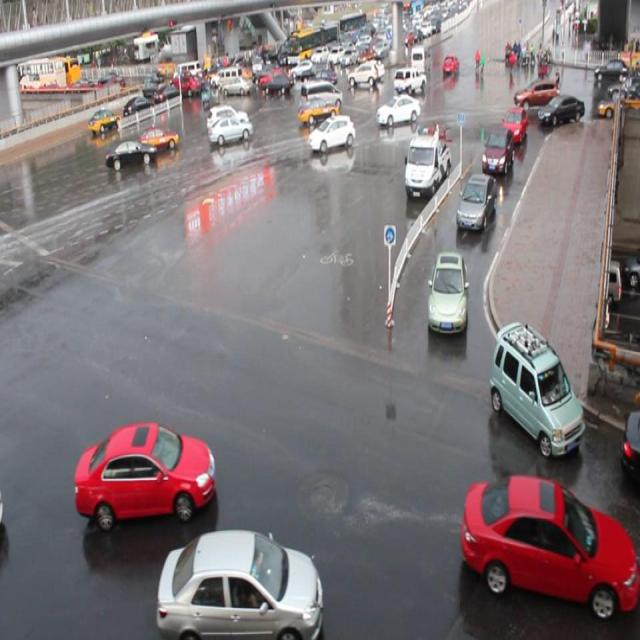bus: (402, 133, 450, 199)
car: (460, 474, 640, 615), (155, 525, 323, 640), (74, 419, 217, 529), (488, 320, 584, 456), (426, 251, 468, 336), (454, 172, 497, 231), (480, 124, 514, 176), (308, 114, 354, 152), (538, 91, 584, 129), (106, 136, 158, 168), (377, 92, 420, 126), (514, 78, 558, 110), (206, 100, 249, 132), (135, 124, 180, 153), (296, 97, 339, 126), (208, 115, 254, 142), (499, 106, 527, 144)
truck: (299, 77, 342, 113)
